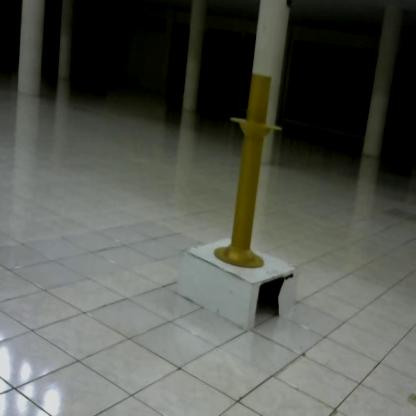pole: (212, 69, 287, 273)
